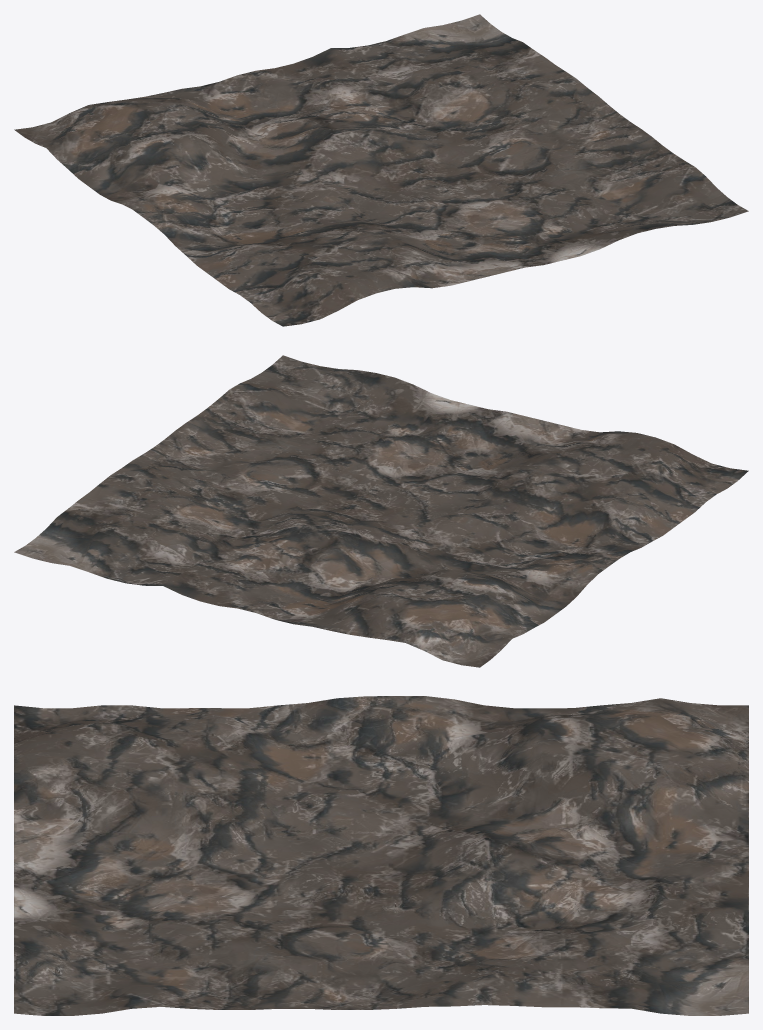
Rendered from cave_floor.glb.
The picture shows the model from 3 angles, top to bottom: view 1: azimuth 30°, elevation 25°; view 2: azimuth 150°, elevation 25°; view 3: azimuth 270°, elevation 25°; orthographic projection. The views are drawn at different scales.
Visible parts, largest first — view 1: pPlane1; view 2: pPlane1; view 3: pPlane1.
Part boxes in pixels (<box>): pPlane1: <box>14,14,748,326</box>; pPlane1: <box>14,355,748,667</box>; pPlane1: <box>14,696,748,1015</box>.
Bounding box in the file's own units: 95.82 × 4.91 × 95.82.
1 material, 1 textured.
